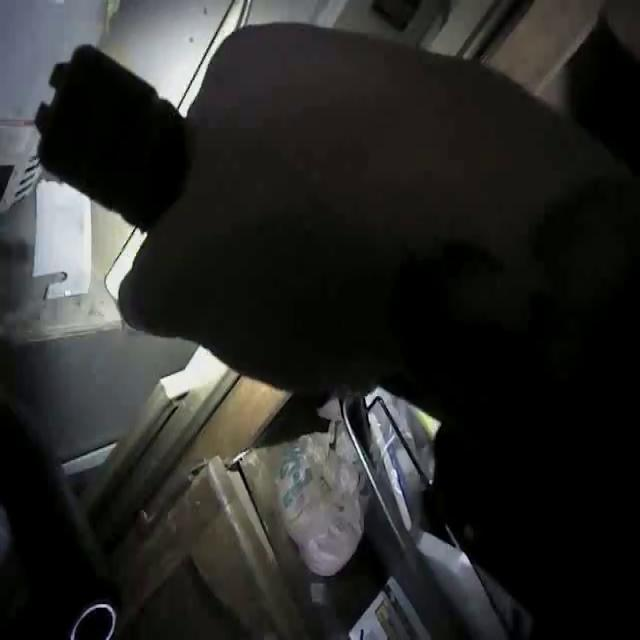gun: (9, 12, 238, 253)
